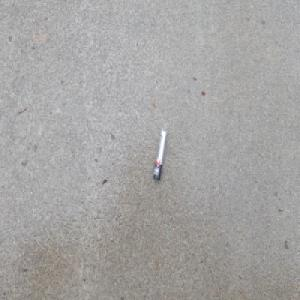Battery: (153, 128, 167, 181)
